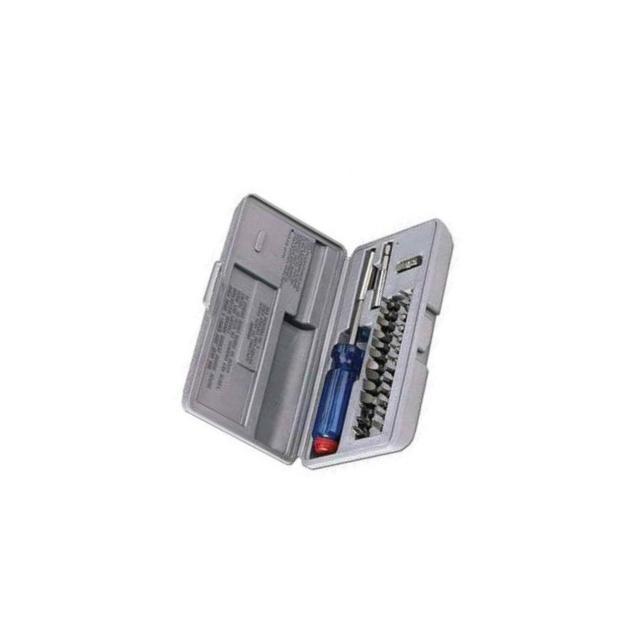screwdriver: (266, 245, 438, 464)
